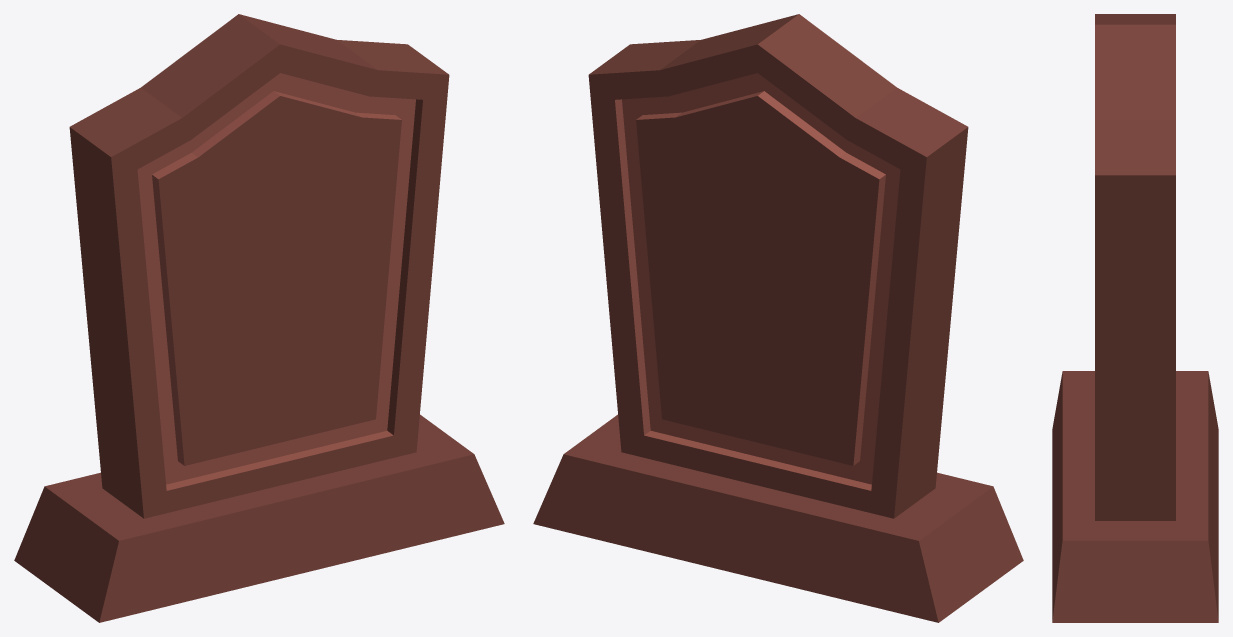
Rendered from Tombstone_2_Red.fbx.
3 views of the same model, side by side, from view 1: azimuth 30°, elevation 25°; view 2: azimuth 150°, elevation 25°; view 3: azimuth 270°, elevation 25° (orthographic). The views are drawn at different scales.
Visible parts, largest first — view 1: Tombstone_2_Red_Part_1, Tombstone_2_Red_Part_2; view 2: Tombstone_2_Red_Part_1, Tombstone_2_Red_Part_2; view 3: Tombstone_2_Red_Part_1.
Part boxes in pixels (x1,y1,x2,y2): Tombstone_2_Red_Part_1: (14, 14, 504, 622); Tombstone_2_Red_Part_2: (137, 73, 422, 490); Tombstone_2_Red_Part_1: (533, 14, 1023, 622); Tombstone_2_Red_Part_2: (615, 73, 900, 490); Tombstone_2_Red_Part_1: (1052, 14, 1218, 622).
Bounding box in the file's own units: 124 × 150 × 45.
